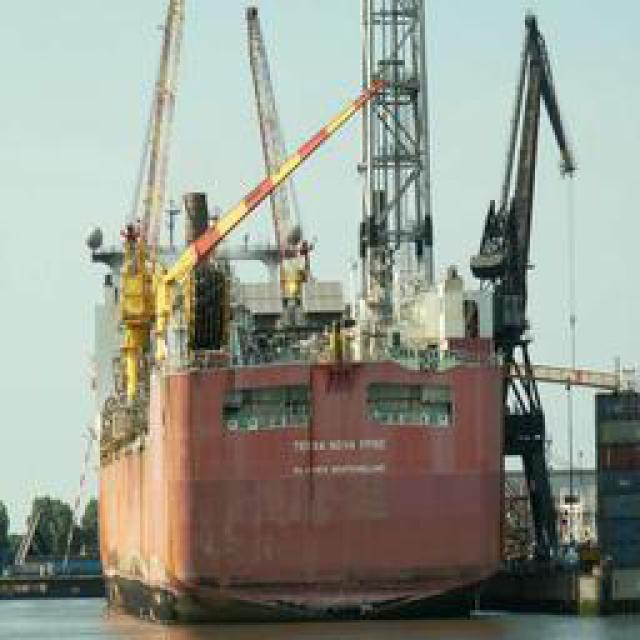Ship: (79, 1, 578, 640)
